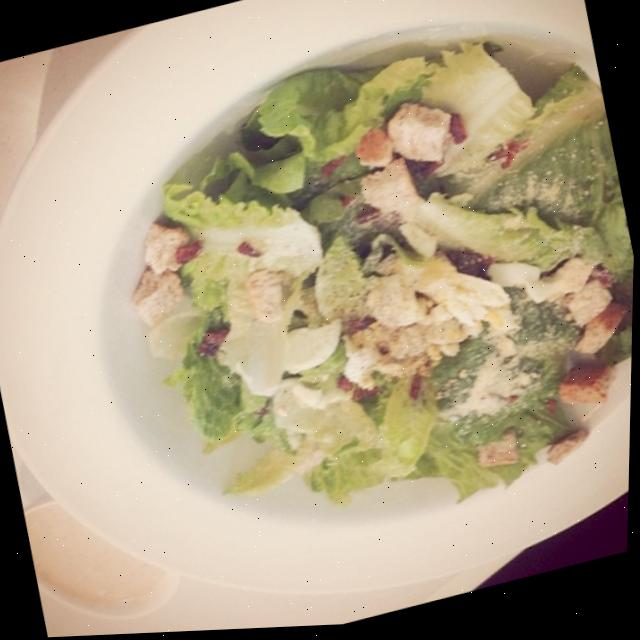蔬菜料理: (50, 0, 640, 602)
